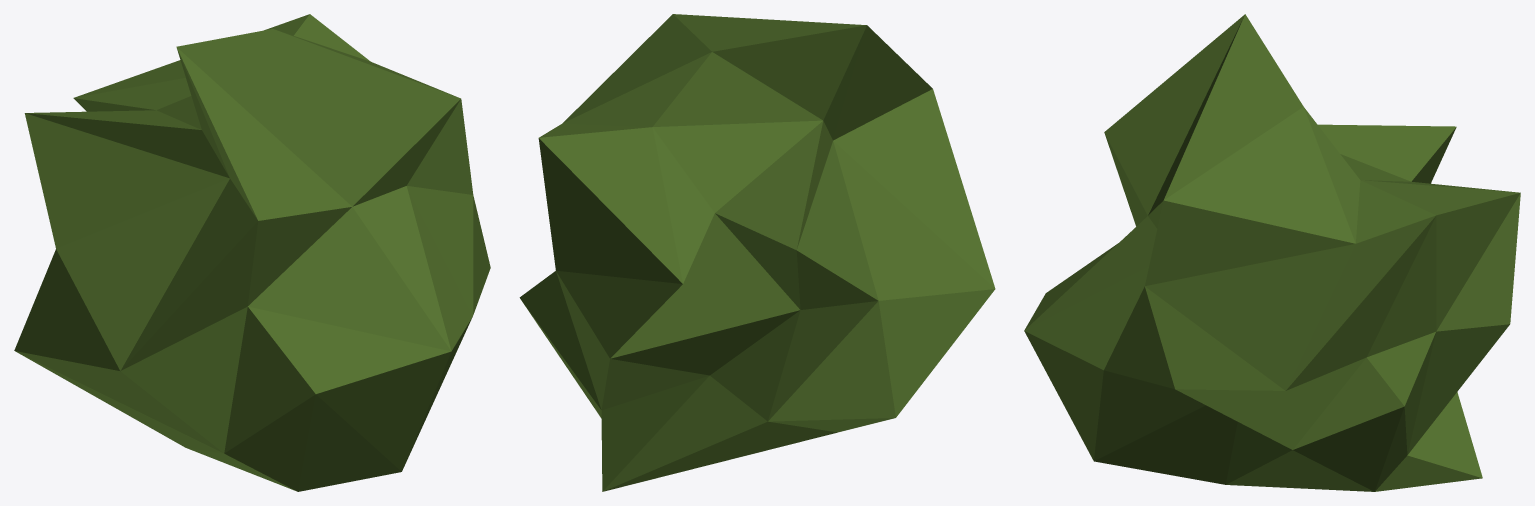
File: bush2.fbx
The picture shows the model from 3 angles, left to right: view 1: azimuth 30°, elevation 25°; view 2: azimuth 150°, elevation 25°; view 3: azimuth 270°, elevation 25°; orthographic projection. The views are drawn at different scales.
Parts seen in each view (by area): view 1: Bush; view 2: Bush; view 3: Bush.
Part boxes in pixels (x1,y1,x2,y2): Bush: (14, 14, 490, 491); Bush: (519, 14, 995, 491); Bush: (1024, 14, 1520, 491).
Size of the model in its own units: 143 by 156 by 173.
